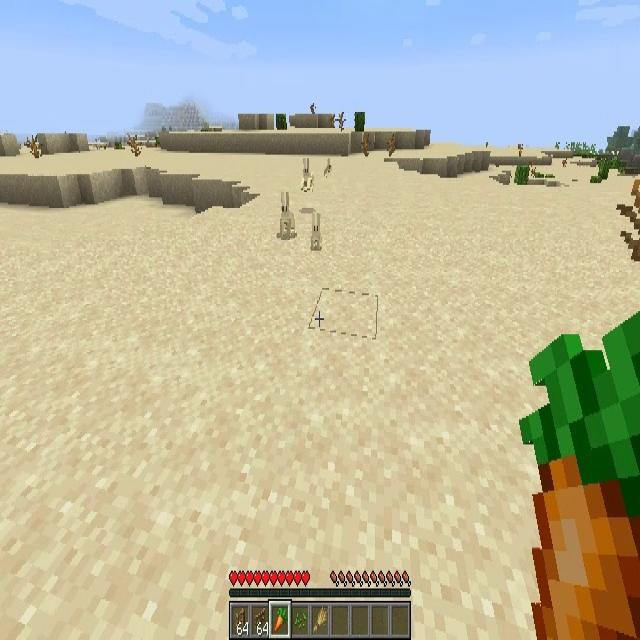rabbit: (278, 191, 296, 235), (309, 210, 321, 252), (300, 158, 314, 190), (323, 158, 332, 178)
